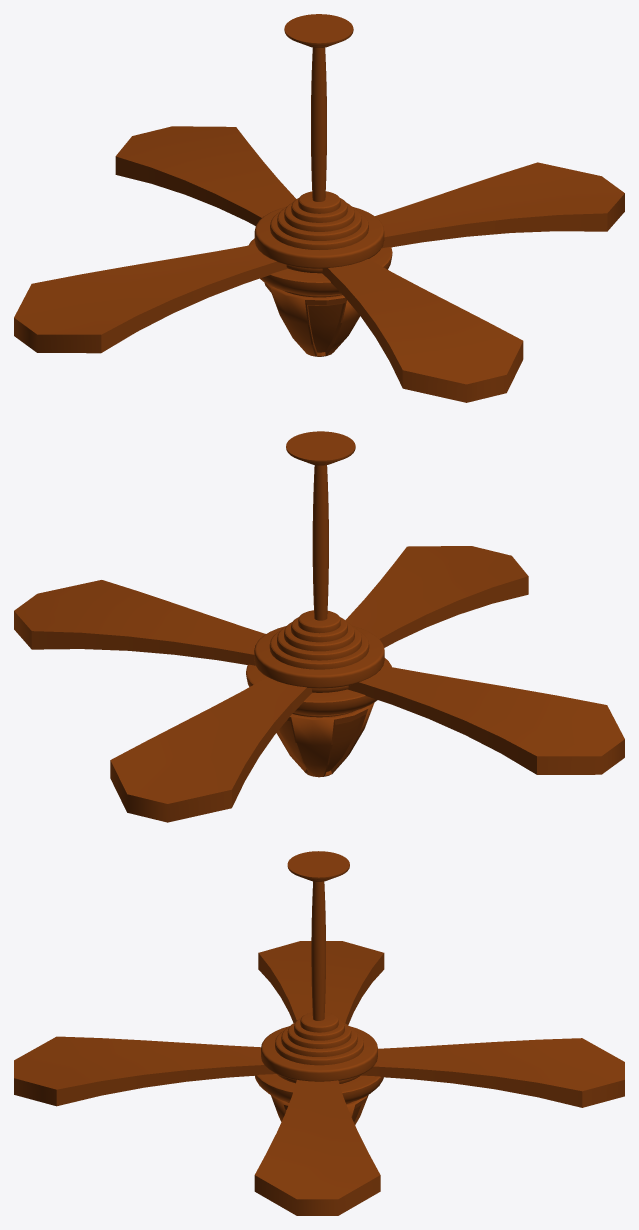
Rendered from Cartoon_Ceiling_Fan.FBX.
3 renders of one model, top to bottom at view 1: azimuth 30°, elevation 25°; view 2: azimuth 150°, elevation 25°; view 3: azimuth 270°, elevation 25°, orthographic. The views are drawn at different scales.
Visible parts, largest first — view 1: Cartoon_Ceiling_Fan11, Cartoon_Ceiling_Fan10, Cartoon_Ceiling_Fan08, Cartoon_Ceiling_Fan07, Cartoon_Ceiling_Fan03, Cartoon_Ceiling_Fan09, Cartoon_Ceiling_Fan00, Cartoon_Ceiling_Fan02, Cartoon_Ceiling_Fan06, Cartoon_Ceiling_Fan05; view 2: Cartoon_Ceiling_Fan11, Cartoon_Ceiling_Fan07, Cartoon_Ceiling_Fan08, Cartoon_Ceiling_Fan10, Cartoon_Ceiling_Fan03, Cartoon_Ceiling_Fan09, Cartoon_Ceiling_Fan00, Cartoon_Ceiling_Fan02, Cartoon_Ceiling_Fan06, Cartoon_Ceiling_Fan05; view 3: Cartoon_Ceiling_Fan07, Cartoon_Ceiling_Fan10, Cartoon_Ceiling_Fan08, Cartoon_Ceiling_Fan11, Cartoon_Ceiling_Fan03, Cartoon_Ceiling_Fan00, Cartoon_Ceiling_Fan02, Cartoon_Ceiling_Fan05, Cartoon_Ceiling_Fan06, Cartoon_Ceiling_Fan09.
Part boxes in pixels (left/top/right/bottom): Cartoon_Ceiling_Fan11: left=14, top=244, right=287, bottom=353; Cartoon_Ceiling_Fan10: left=322, top=259, right=523, bottom=402; Cartoon_Ceiling_Fan08: left=375, top=162, right=624, bottom=248; Cartoon_Ceiling_Fan07: left=115, top=126, right=296, bottom=225; Cartoon_Ceiling_Fan03: left=270, top=191, right=368, bottom=249; Cartoon_Ceiling_Fan09: left=264, top=282, right=360, bottom=356; Cartoon_Ceiling_Fan00: left=254, top=206, right=384, bottom=268; Cartoon_Ceiling_Fan02: left=311, top=47, right=326, bottom=201; Cartoon_Ceiling_Fan06: left=284, top=14, right=353, bottom=47; Cartoon_Ceiling_Fan05: left=248, top=238, right=392, bottom=295; Cartoon_Ceiling_Fan11: left=347, top=665, right=624, bottom=774; Cartoon_Ceiling_Fan07: left=110, top=677, right=312, bottom=822; Cartoon_Ceiling_Fan08: left=14, top=580, right=265, bottom=665; Cartoon_Ceiling_Fan10: left=345, top=546, right=528, bottom=647; Cartoon_Ceiling_Fan03: left=269, top=610, right=369, bottom=669; Cartoon_Ceiling_Fan09: left=276, top=702, right=374, bottom=777; Cartoon_Ceiling_Fan00: left=254, top=626, right=384, bottom=688; Cartoon_Ceiling_Fan02: left=312, top=465, right=328, bottom=620; Cartoon_Ceiling_Fan06: left=286, top=431, right=355, bottom=465; Cartoon_Ceiling_Fan05: left=246, top=658, right=391, bottom=715; Cartoon_Ceiling_Fan07: left=361, top=1038, right=624, bottom=1107; Cartoon_Ceiling_Fan10: left=14, top=1036, right=275, bottom=1106; Cartoon_Ceiling_Fan08: left=254, top=1079, right=380, bottom=1215; Cartoon_Ceiling_Fan11: left=258, top=941, right=384, bottom=1024; Cartoon_Ceiling_Fan03: left=275, top=1012, right=363, bottom=1065; Cartoon_Ceiling_Fan00: left=261, top=1026, right=377, bottom=1081; Cartoon_Ceiling_Fan02: left=311, top=881, right=325, bottom=1020; Cartoon_Ceiling_Fan05: left=255, top=1074, right=383, bottom=1103; Cartoon_Ceiling_Fan06: left=287, top=851, right=349, bottom=881; Cartoon_Ceiling_Fan09: left=271, top=1095, right=368, bottom=1124.
Size of the model in its own units: 96.32 by 51.27 by 96.32.
